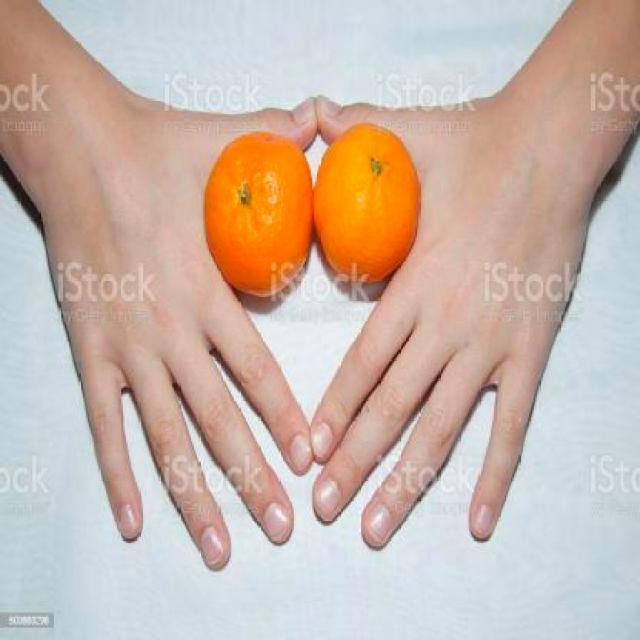Jeruk Sudah Matang: (208, 131, 310, 291), (318, 133, 417, 284)
